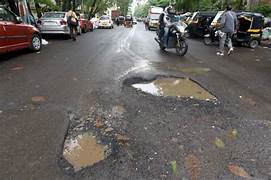Pothole: (59, 108, 119, 174), (119, 71, 221, 108)
